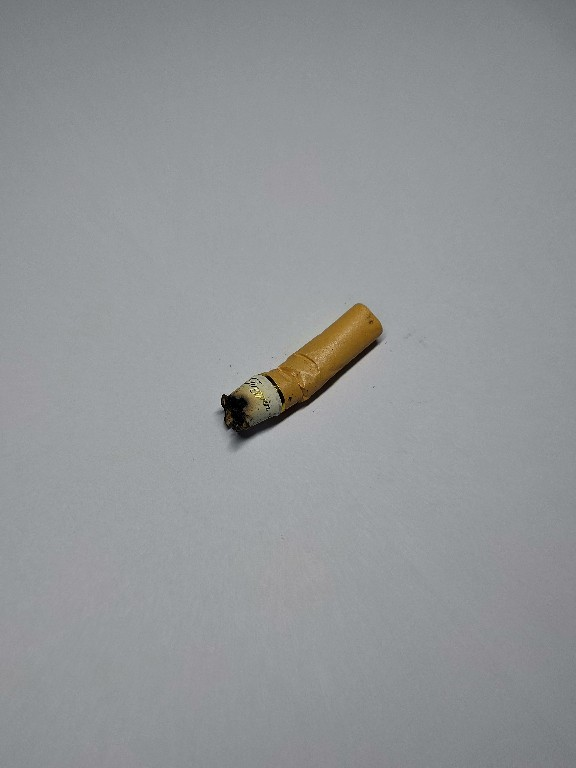cigarette: (215, 297, 385, 441)
